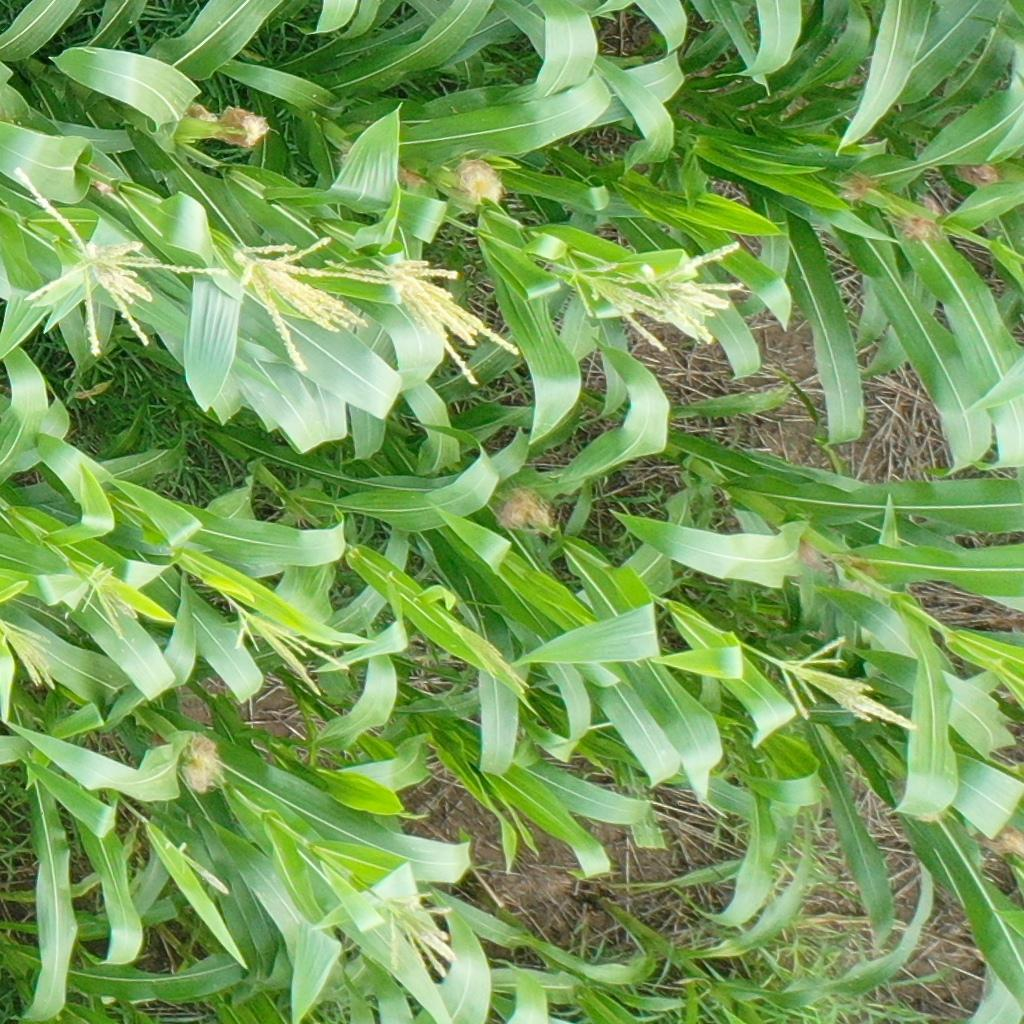Tassel: (12, 166, 228, 358), (324, 253, 520, 387), (233, 239, 372, 371), (776, 632, 920, 731), (635, 242, 744, 347), (231, 602, 351, 697), (567, 260, 673, 350), (373, 888, 463, 979), (442, 615, 532, 695), (77, 562, 140, 640), (1, 618, 58, 691), (164, 838, 231, 893)
